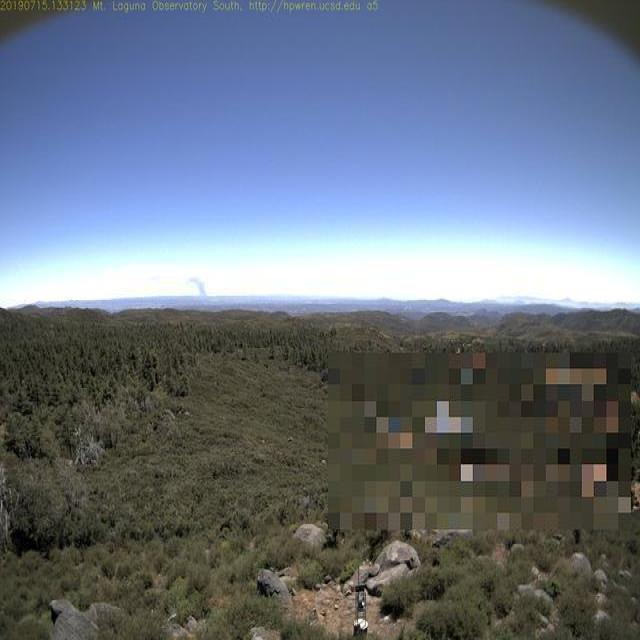smoke: (184, 272, 211, 304)
